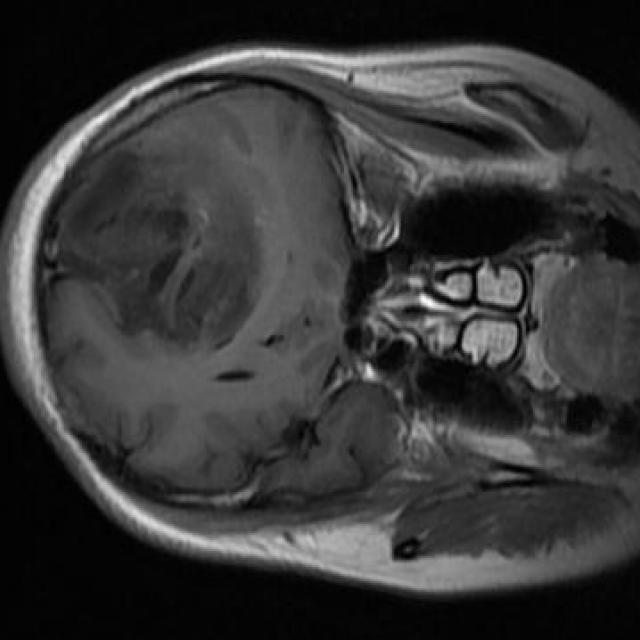glioma: (59, 143, 264, 346)
